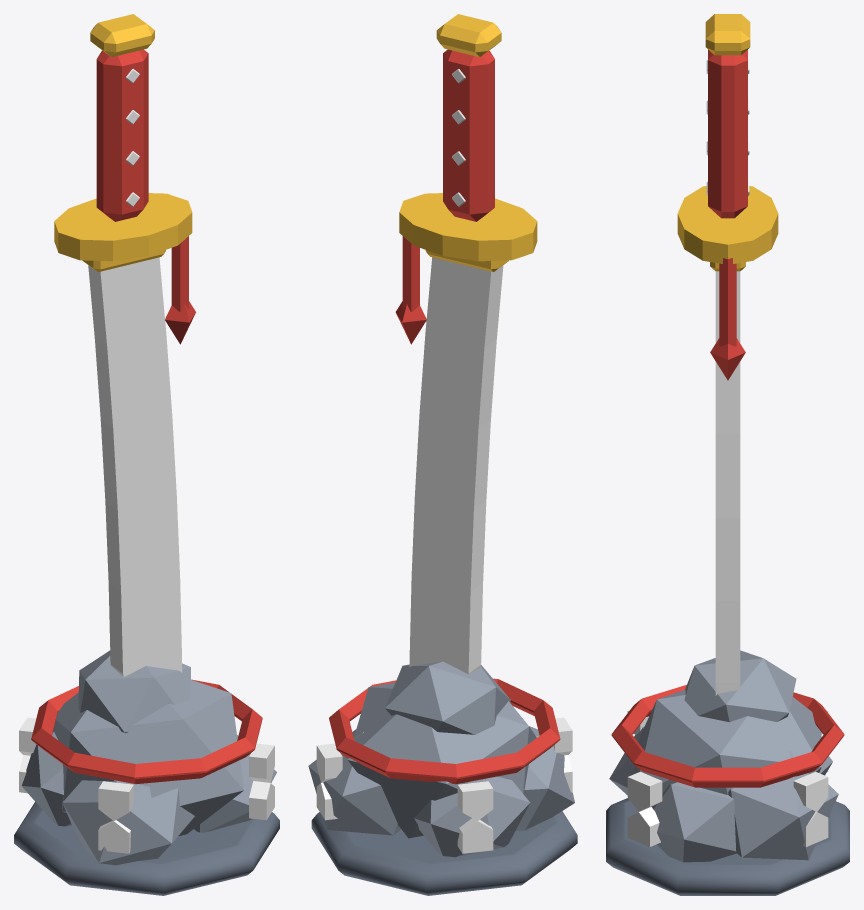
Rendered from Prop_samurai_castle_KatanaMonument.glb.
3 views of the same model, side by side, from view 1: azimuth 30°, elevation 25°; view 2: azimuth 150°, elevation 25°; view 3: azimuth 270°, elevation 25° (orthographic).
Visible parts, largest first — view 1: BladeWhite_FFFFFF, StoneLight_9AA4B2, ZoneRed_E0453C, StoneDark_6B7686, Gold_FFC83D; view 2: BladeWhite_FFFFFF, StoneLight_9AA4B2, ZoneRed_E0453C, StoneDark_6B7686, Gold_FFC83D; view 3: StoneLight_9AA4B2, ZoneRed_E0453C, BladeWhite_FFFFFF, StoneDark_6B7686, Gold_FFC83D.
Part boxes in pixels (box(x1,y1,x2,y2)): BladeWhite_FFFFFF: box(19, 69, 274, 853); StoneLight_9AA4B2: box(22, 650, 276, 865); ZoneRed_E0453C: box(31, 49, 262, 784); StoneDark_6B7686: box(14, 802, 279, 895); Gold_FFC83D: box(54, 14, 192, 272); BladeWhite_FFFFFF: box(316, 69, 572, 853); StoneLight_9AA4B2: box(308, 661, 574, 857); ZoneRed_E0453C: box(329, 49, 560, 784); StoneDark_6B7686: box(311, 811, 577, 895); Gold_FFC83D: box(399, 14, 537, 272); StoneLight_9AA4B2: box(609, 650, 838, 862); ZoneRed_E0453C: box(611, 50, 844, 787); BladeWhite_FFFFFF: box(627, 60, 828, 846); StoneDark_6B7686: box(606, 798, 849, 895); Gold_FFC83D: box(677, 14, 778, 271).
Bounding box in the file's own units: 5.47 × 20.05 × 5.45.
